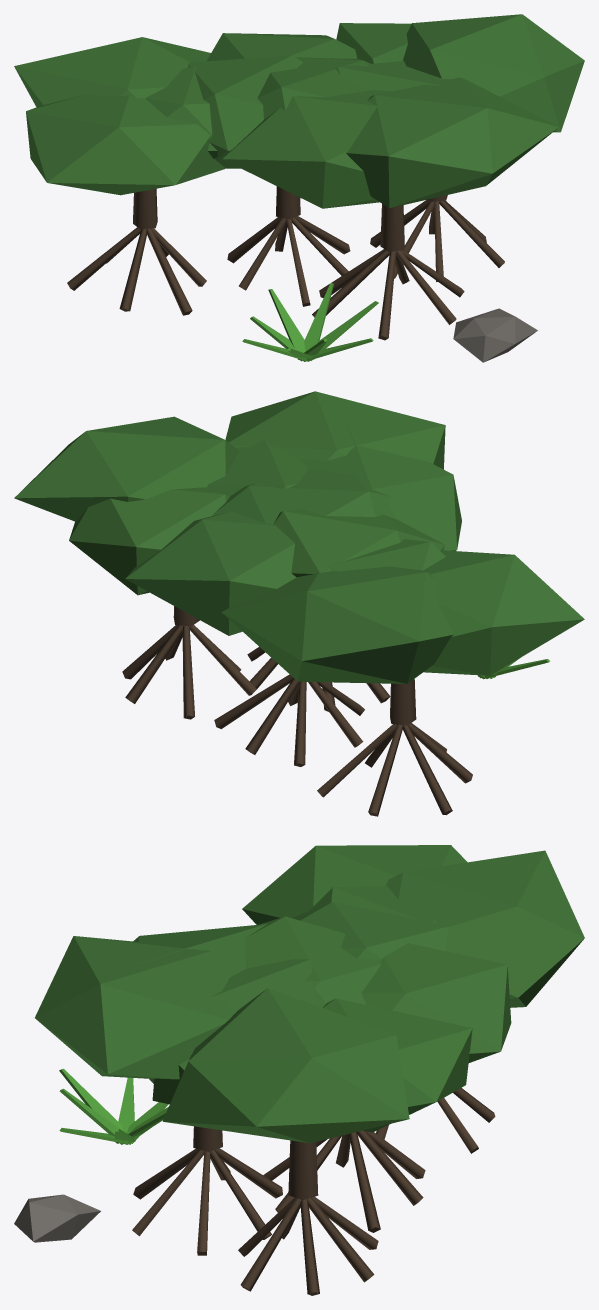
Rendered from sawyer_mangrove_b.glb.
3 views of the same model, one above another, from view 1: azimuth 30°, elevation 25°; view 2: azimuth 150°, elevation 25°; view 3: azimuth 270°, elevation 25° (orthographic). The views are drawn at different scales.
Parts seen in each view (by area): view 1: mangrove_2_crown0, mangrove_4_crown0, mangrove_1_crown0, mangrove_2_crown1, mangrove_4_crown1, mangrove_0_crown0, mangrove_0_crown2, mangrove_0_crown1, rock_5_rock, mangrove_1_crown2, mangrove_4_crown2, mangrove_2_crown2 (+22 smaller); view 2: mangrove_4_crown1, mangrove_1_crown0, mangrove_4_crown0, mangrove_0_crown1, mangrove_2_crown0, mangrove_1_crown2, mangrove_2_crown1, mangrove_0_crown0, mangrove_0_crown2, mangrove_2_crown2, mangrove_4_crown2, mangrove_4_trunk (+12 smaller); view 3: mangrove_1_crown0, mangrove_2_crown0, mangrove_4_crown1, mangrove_0_crown1, mangrove_4_crown0, mangrove_1_crown2, mangrove_0_crown2, mangrove_0_crown0, mangrove_2_crown2, rock_5_rock, mangrove_2_crown1, mangrove_4_crown2 (+20 smaller).
Boxes of the visible parts, x1,y1,x2,y2 form: mangrove_2_crown0: (346,77,558,208); mangrove_4_crown0: (26,95,224,195); mangrove_1_crown0: (403,14,584,132); mangrove_2_crown1: (222,90,427,208); mangrove_4_crown1: (14,37,210,107); mangrove_0_crown0: (188,55,302,168); mangrove_0_crown2: (257,57,370,119); mangrove_0_crown1: (207,33,357,61); rock_5_rock: (453,308,537,362); mangrove_1_crown2: (336,23,411,63); mangrove_4_crown2: (145,66,217,158); mangrove_2_crown2: (335,61,449,91); mangrove_4_crown1: (221,566,453,683); mangrove_1_crown0: (14,416,238,521); mangrove_4_crown0: (423,550,584,675); mangrove_0_crown1: (125,511,296,635); mangrove_2_crown0: (225,391,445,469); mangrove_1_crown2: (69,487,229,595); mangrove_2_crown1: (299,419,461,550); mangrove_0_crown0: (273,508,445,576); mangrove_0_crown2: (212,469,396,524); mangrove_2_crown2: (207,439,307,496); mangrove_4_crown2: (327,539,445,571); mangrove_4_trunk: (390,679,416,725); mangrove_1_crown0: (162,988,409,1143); mangrove_2_crown0: (35,936,232,1079); mangrove_4_crown1: (386,850,584,1007); mangrove_0_crown1: (361,943,511,1062); mangrove_4_crown0: (242,845,467,924); mangrove_1_crown2: (323,998,472,1132); mangrove_0_crown2: (245,916,381,1004); mangrove_0_crown0: (292,902,448,959); mangrove_2_crown2: (149,959,326,1083); rock_5_rock: (14,1194,100,1242); mangrove_2_crown1: (133,924,266,977); mangrove_4_crown2: (309,886,436,924).
Size of the model in its own units: 5.32 by 2.27 by 4.36.
